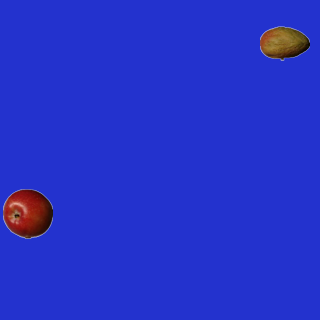Apple Braeburn: (2, 188, 52, 238)
Papaya: (259, 18, 309, 68)
